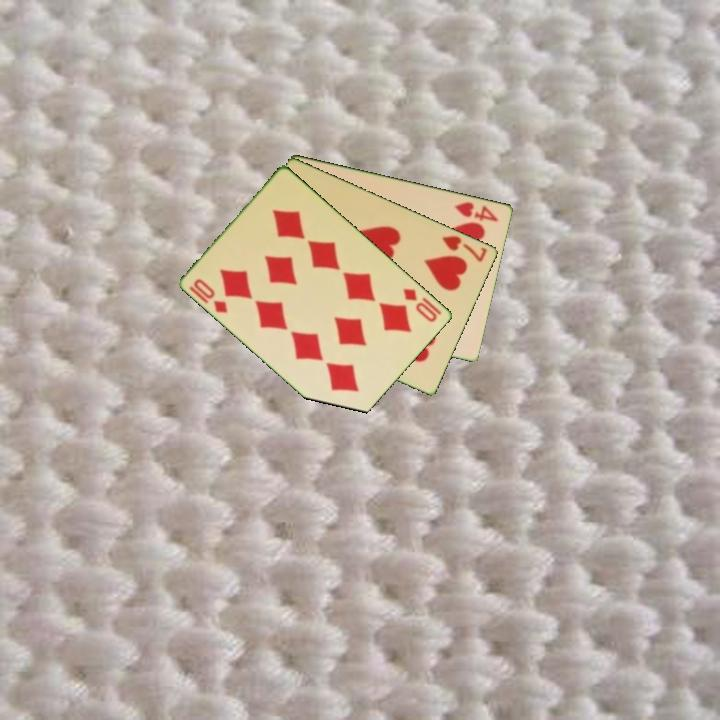10d: (400, 285, 445, 325), (190, 275, 231, 316)
4h: (451, 198, 501, 224)
7h: (439, 232, 490, 265)
